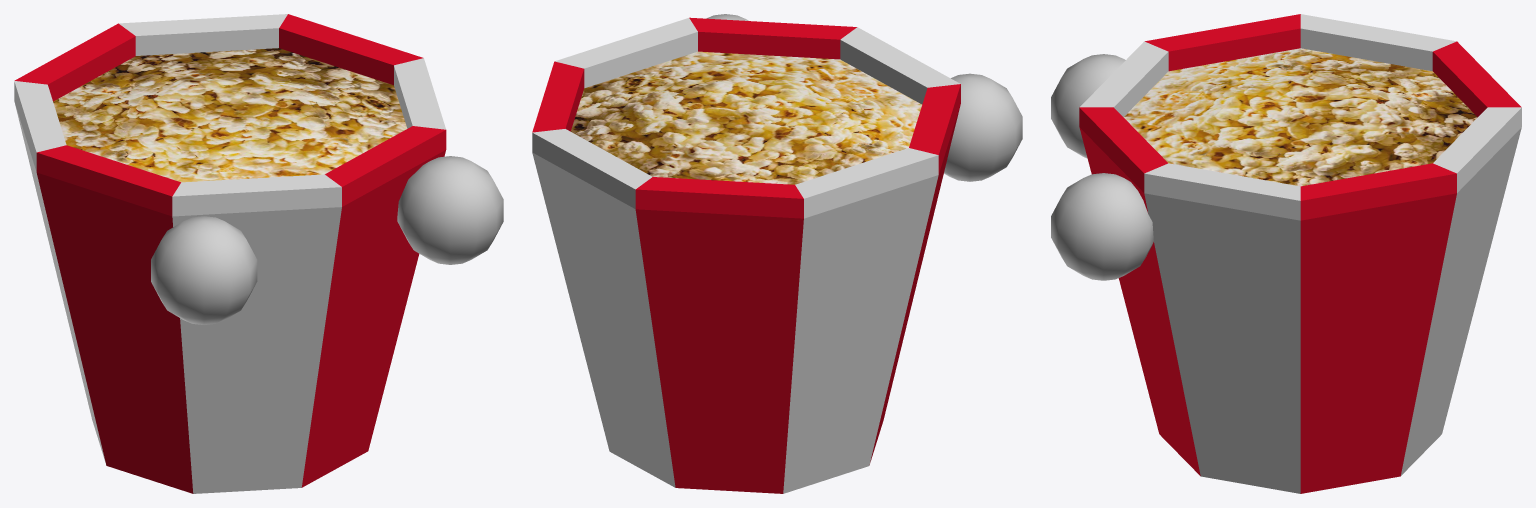
Rendered from Poppy.fbx.
3 renders of one model, left to right at view 1: azimuth 30°, elevation 25°; view 2: azimuth 150°, elevation 25°; view 3: azimuth 270°, elevation 25°, orthographic.
Visible parts, largest first — view 1: PopCorn; view 2: PopCorn; view 3: PopCorn.
Boxes of the visible parts, x1,y1,x2,y2 form: PopCorn: (14, 14, 503, 493); PopCorn: (532, 14, 1022, 493); PopCorn: (1051, 14, 1521, 493).
Size of the model in its own units: 313 by 255 by 333.
